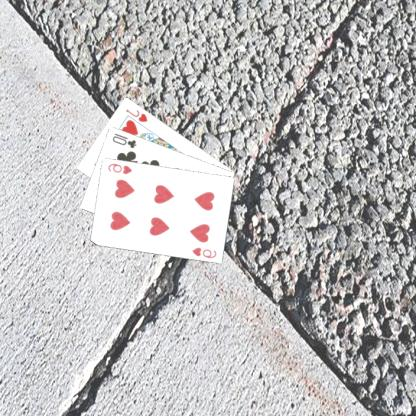10C: (111, 130, 140, 150)
6H: (107, 160, 135, 176), (191, 244, 219, 260)
JH: (124, 106, 150, 123)
